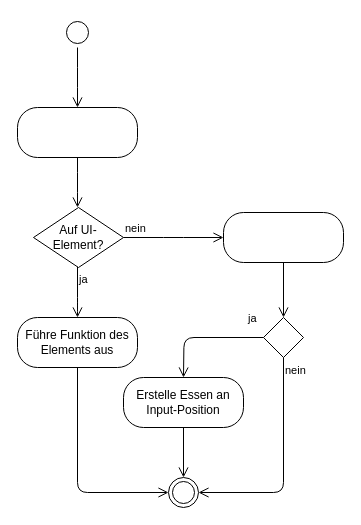
Some shapes in this 361 by 525 pixel diagram are drawn without their labels. Here are the shapes that lost their labels. From the top down, the centre of each, then its label:
At [77,132]: "Touch-Input erhalten".
At [283,237]: "Überprüfe, ob zuvor ein Essen ausgewählt wurde".
